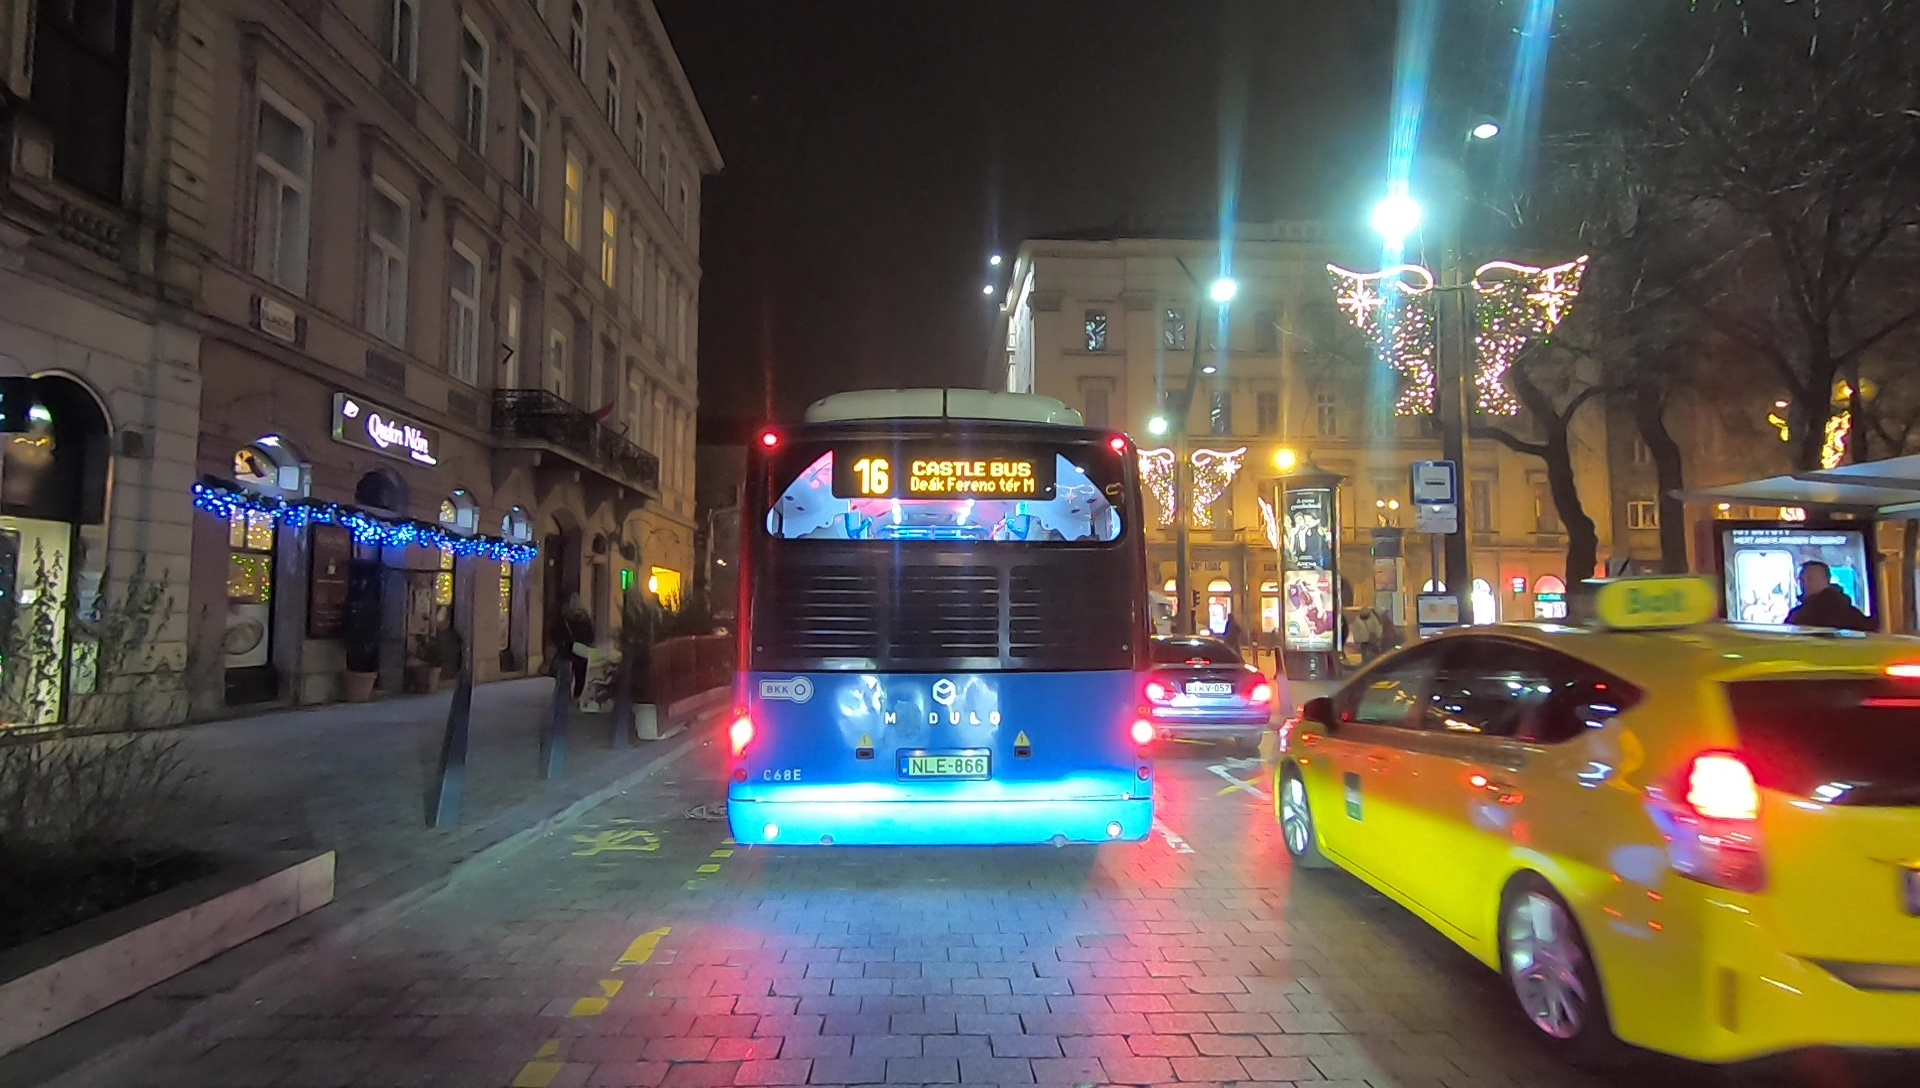person: (552, 591, 597, 717)
